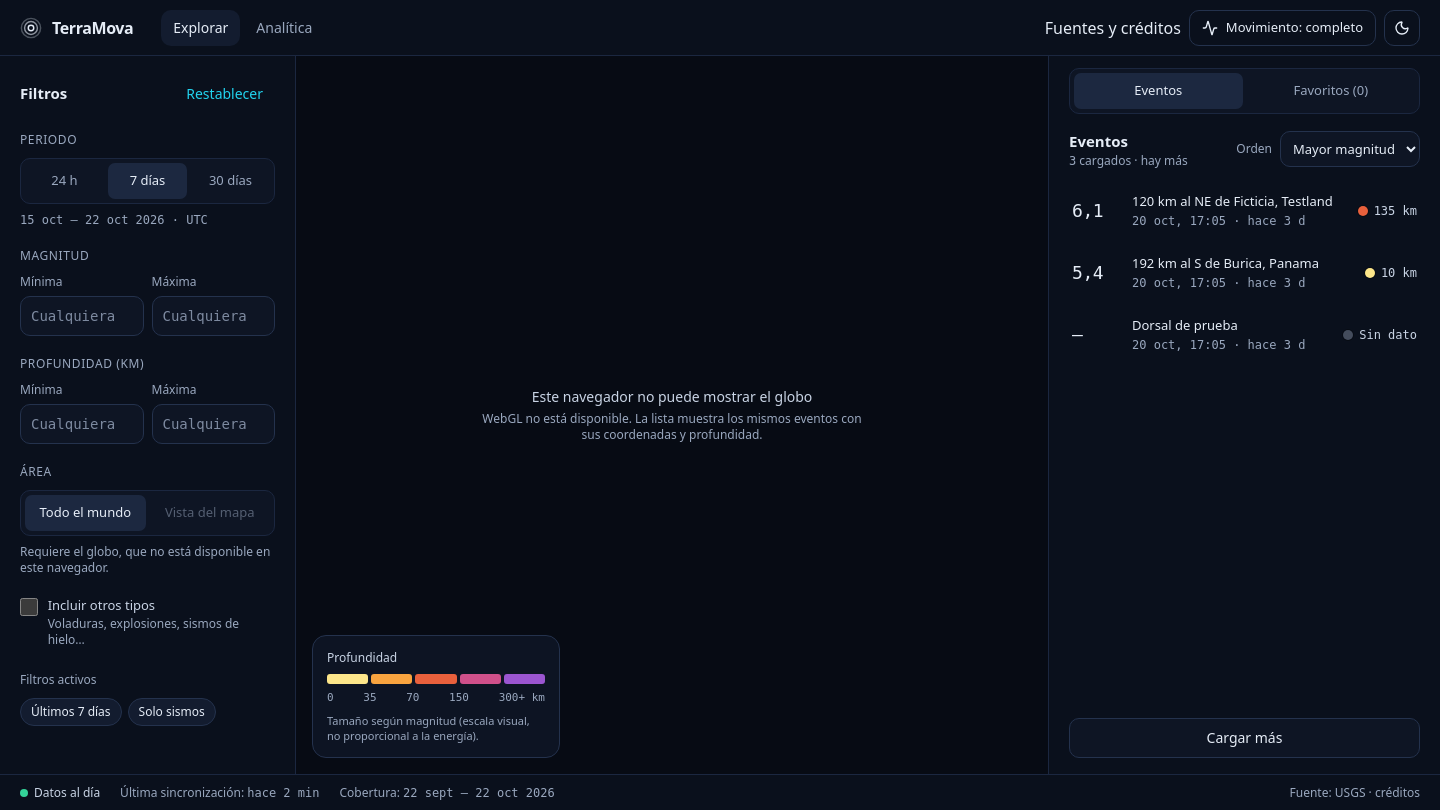
Explorar › al seleccionar un evento abre la ficha y lo guarda en la URL
This screenshot has width=1440, height=810.
Click the button "192 km al S de Burica" at (1244, 272), box [1059, 242, 1430, 302]
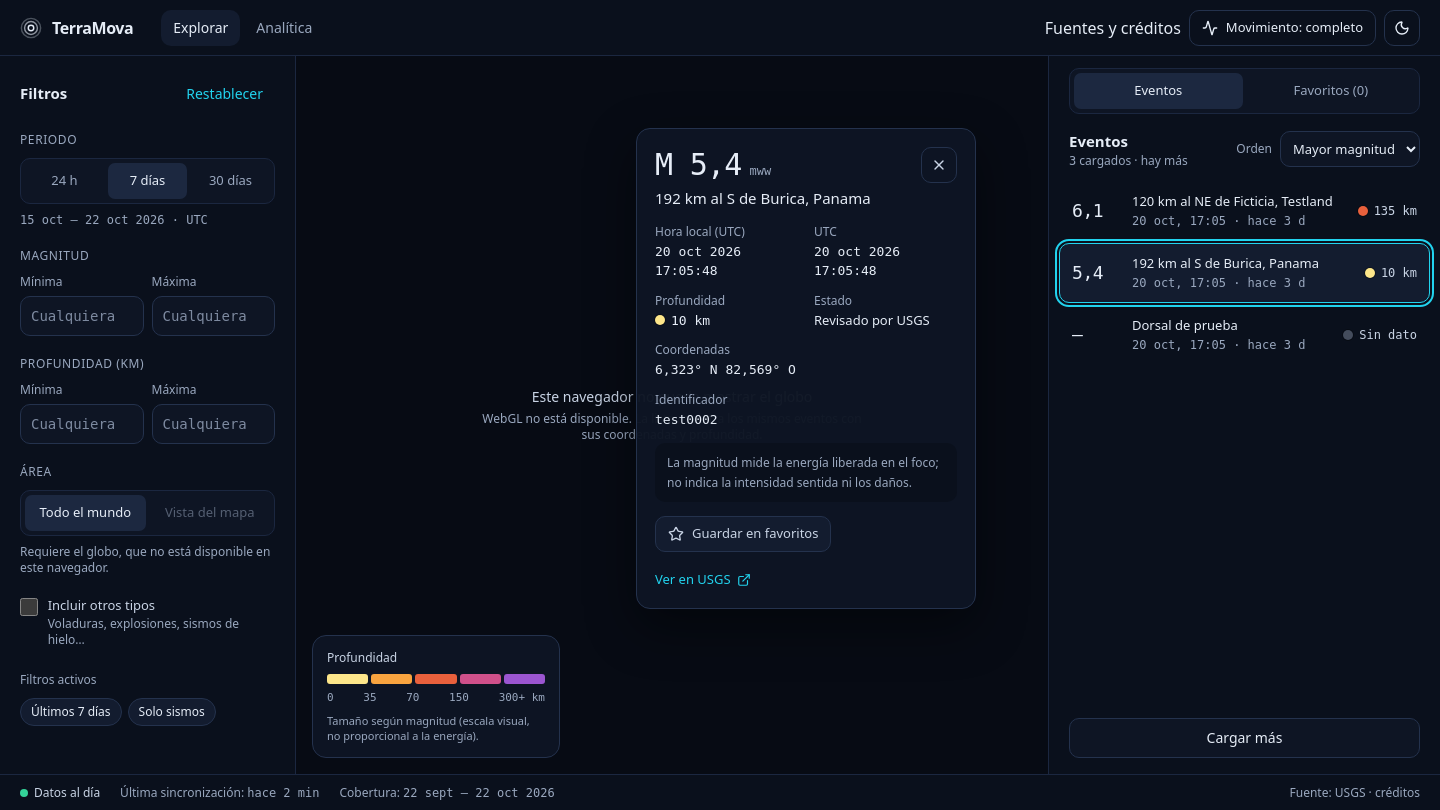
expect the text "M 5,4" is shown: met, box [655, 147, 742, 183]
expect the text "Revisado por USGS" is shown: met, box [814, 310, 930, 328]
